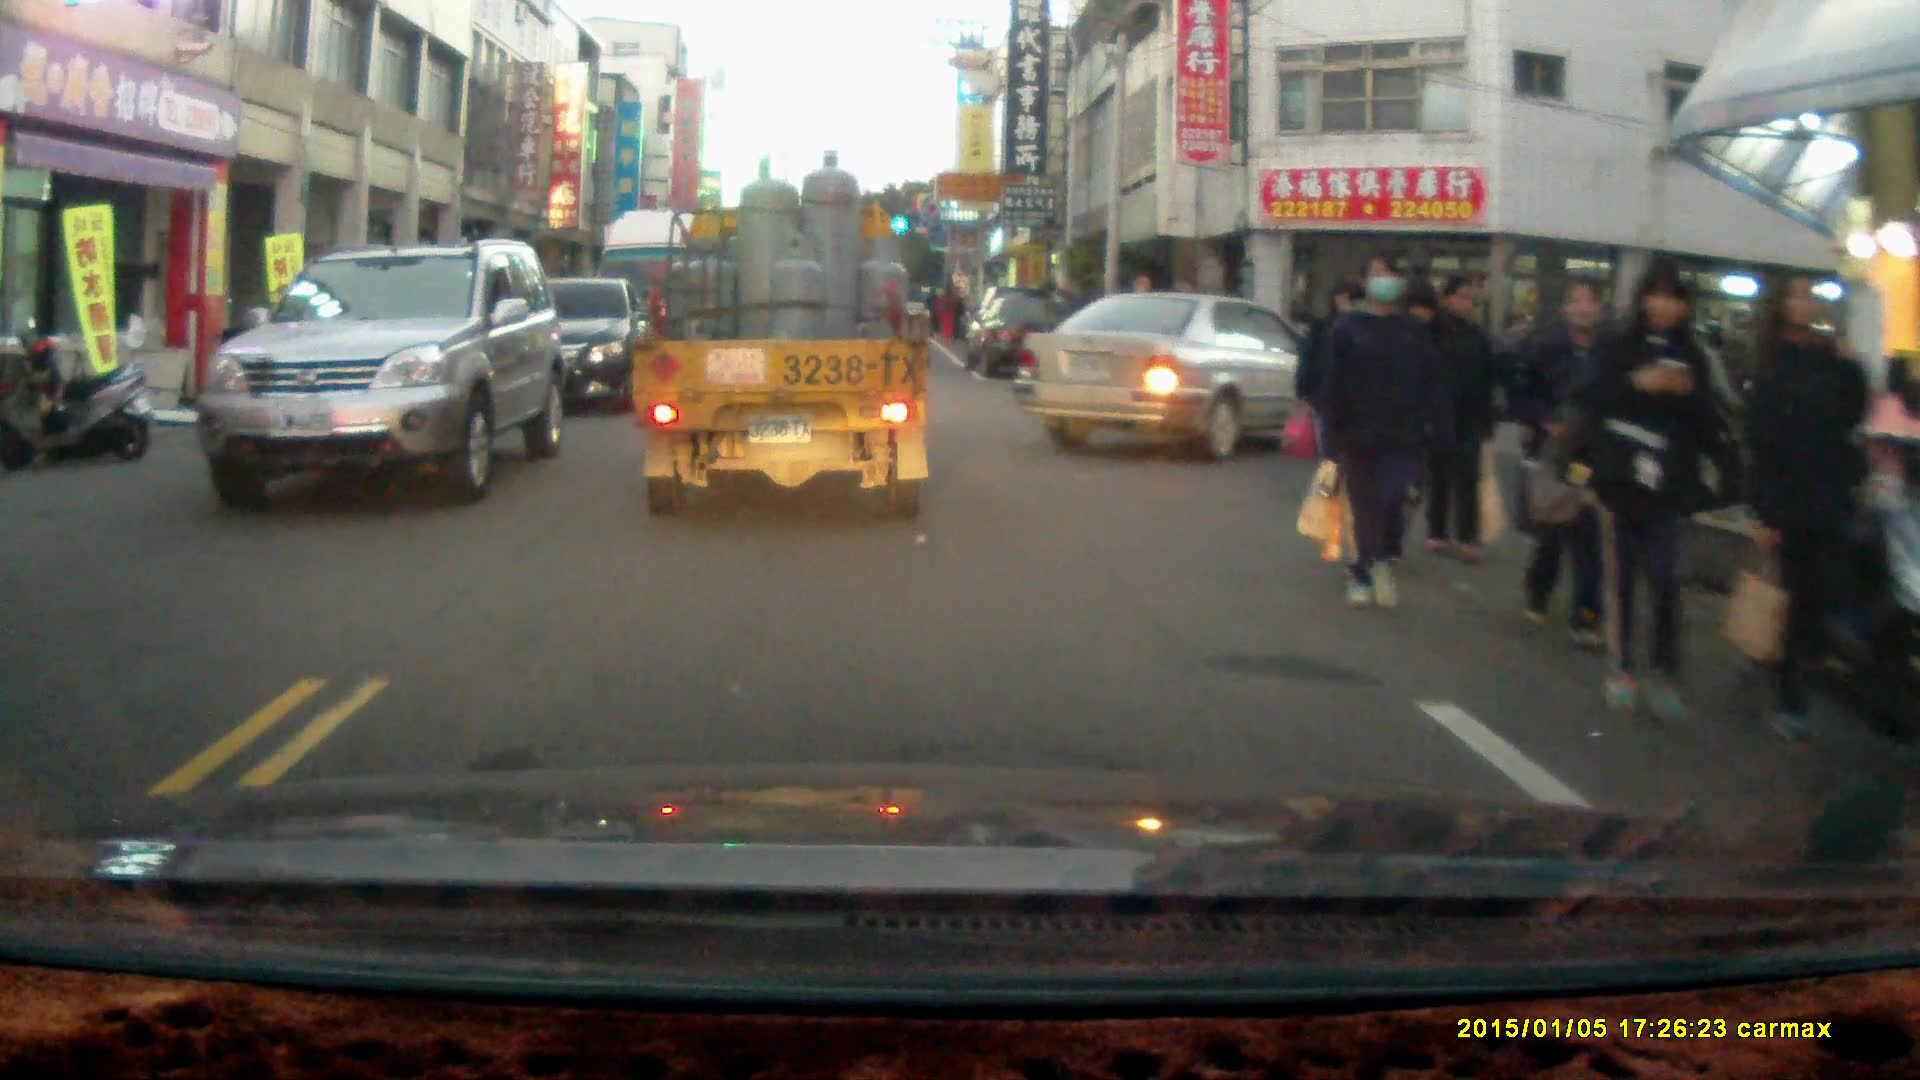pedestrian: (1580, 255, 1717, 728), (1739, 270, 1872, 738), (1315, 248, 1434, 617), (1515, 272, 1627, 644), (1413, 269, 1501, 571)
vehicle: (629, 150, 943, 519), (197, 238, 567, 504), (1011, 293, 1374, 461), (449, 278, 660, 422), (597, 207, 747, 393), (974, 289, 1089, 384)
